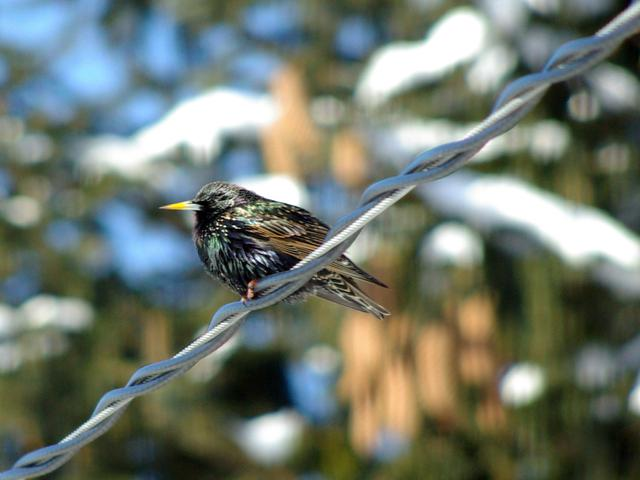bird: (144, 175, 408, 327)
